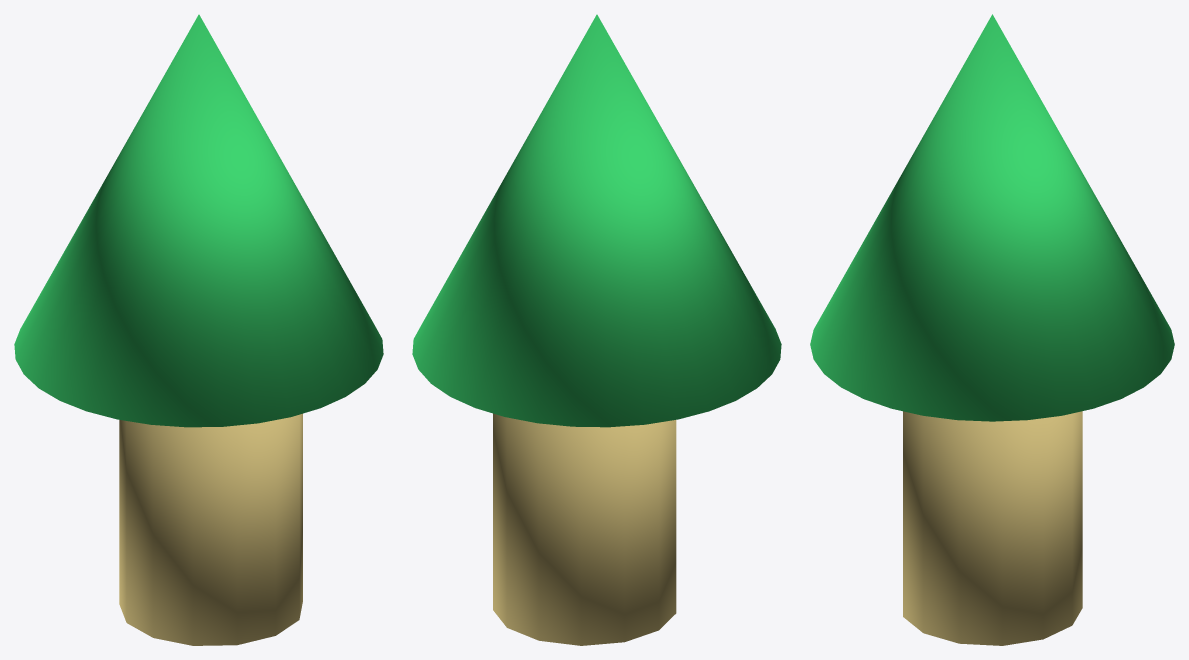
File: Tree.fbx
The picture shows the model from 3 angles, left to right: view 1: azimuth 30°, elevation 25°; view 2: azimuth 150°, elevation 25°; view 3: azimuth 270°, elevation 25°; orthographic projection.
Parts seen in each view (by area): view 1: Cone; view 2: Cone; view 3: Cone.
Boxes of the visible parts, x1,y1,x2,y2 form: Cone: [14, 14, 383, 645]; Cone: [412, 14, 781, 645]; Cone: [810, 14, 1174, 645].
Bounding box in the file's own units: 2 × 3.56 × 2.
